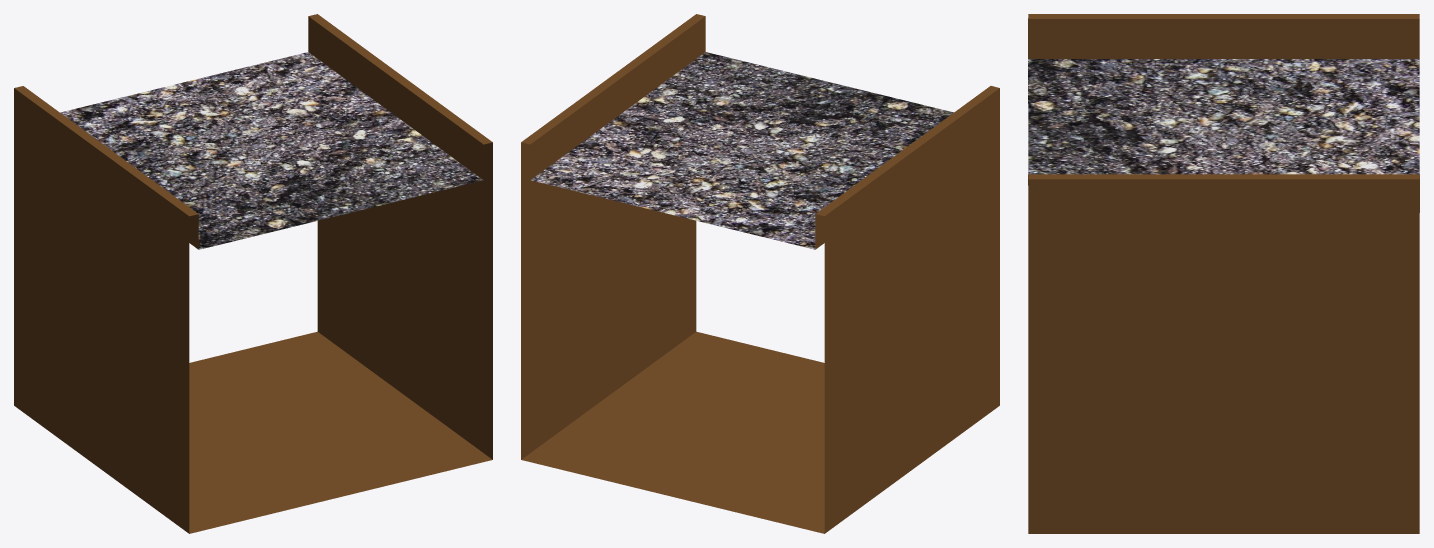
The model's file is plant_base_middle.fbx.
The picture shows the model from 3 angles, left to right: view 1: azimuth 30°, elevation 25°; view 2: azimuth 150°, elevation 25°; view 3: azimuth 270°, elevation 25°; orthographic projection. The views are drawn at different scales.
Parts seen in each view (by area): view 1: plant_base_middle; view 2: plant_base_middle; view 3: plant_base_middle.
Boxes of the visible parts, box(x1,y1,x2,y2) form: plant_base_middle: box(14, 14, 492, 533); plant_base_middle: box(521, 14, 999, 533); plant_base_middle: box(1028, 14, 1419, 533).
Size of the model in its own units: 1 by 1 by 1.
